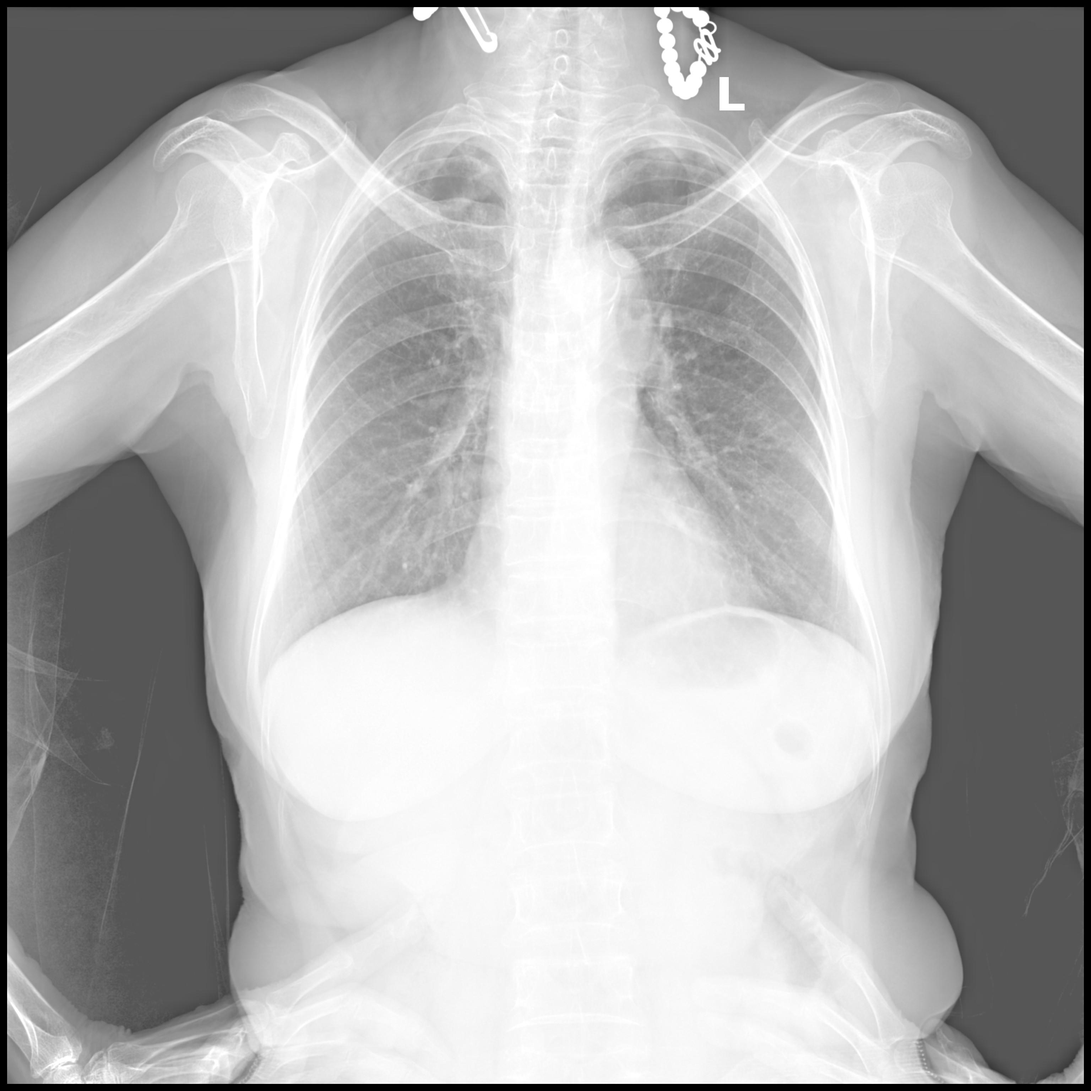Aortic enlargement: (556, 238, 647, 340)
Pulmonary fibrosis: (390, 144, 501, 199), (631, 136, 692, 184)
